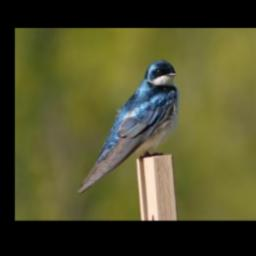Swallow: (76, 56, 181, 197)
